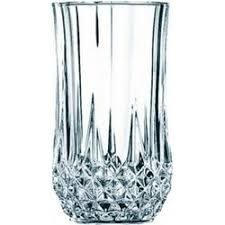glass: (46, 1, 178, 224)
